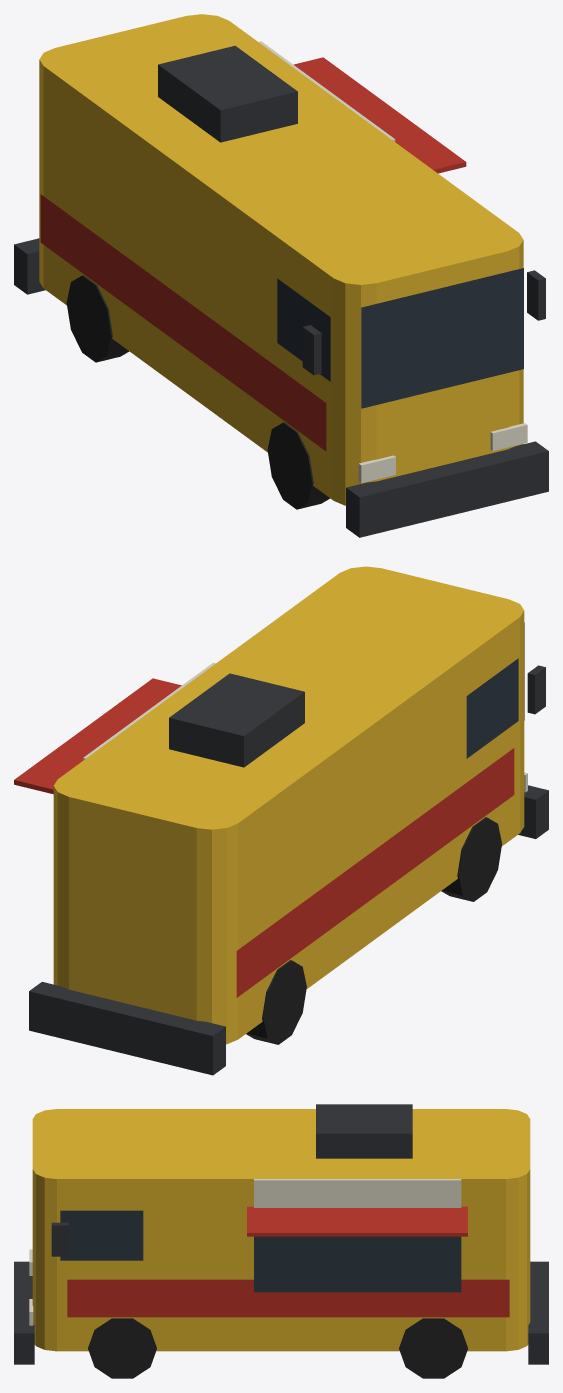
File: dc_food_truck.glb
3 renders of one model, top to bottom at view 1: azimuth 30°, elevation 25°; view 2: azimuth 150°, elevation 25°; view 3: azimuth 270°, elevation 25°, orthographic. The views are drawn at different scales.
Visible parts, largest first — view 1: dc_food_truck; view 2: dc_food_truck; view 3: dc_food_truck.
Boxes of the visible parts, left/top/right/bottom form: dc_food_truck: left=14, top=14, right=548, bottom=537; dc_food_truck: left=14, top=566, right=548, bottom=1075; dc_food_truck: left=14, top=1104, right=548, bottom=1378.
Bounding box in the file's own units: 3.6 × 3.58 × 7.74.
Materials: 1 (1 with a texture image).
